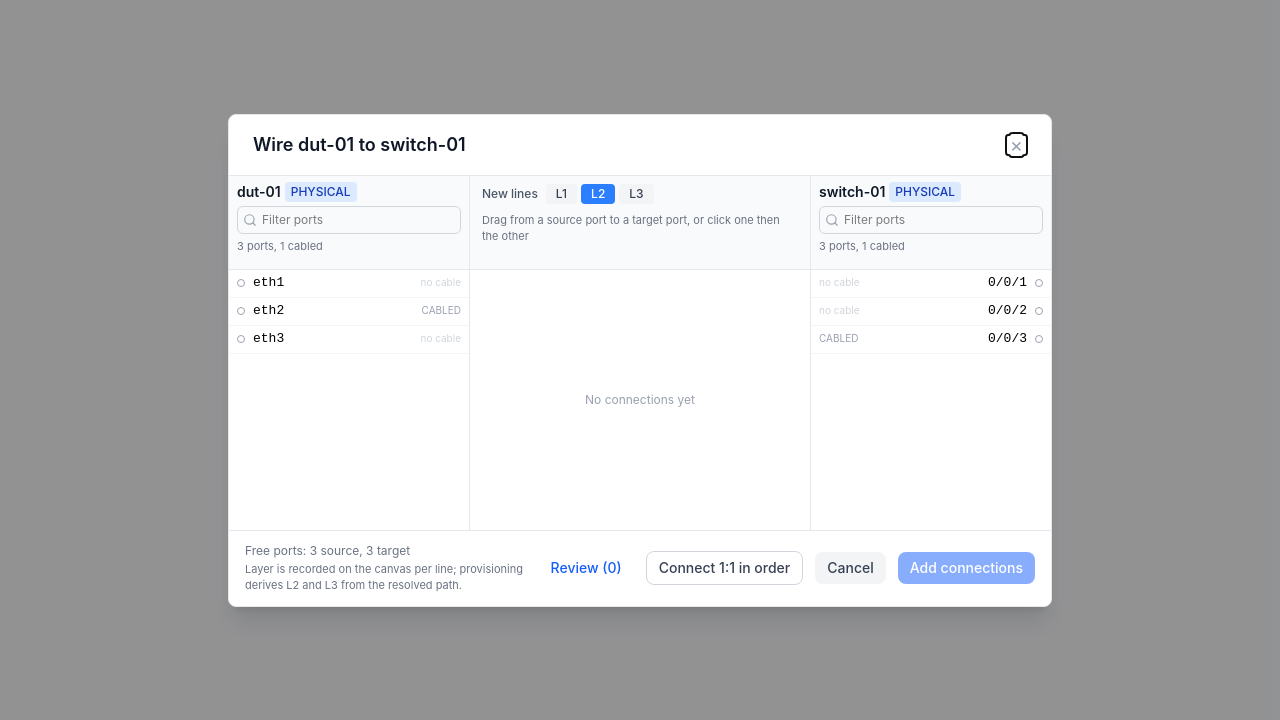
WiringDialog › drag path (mousedown, mousemove past the threshold, mouseup on a free opposite port) completes a connection
This screenshot has width=1280, height=720.
Press the mouse on the button "eth3 no cable" at [349, 340], box [229,326,469,354]
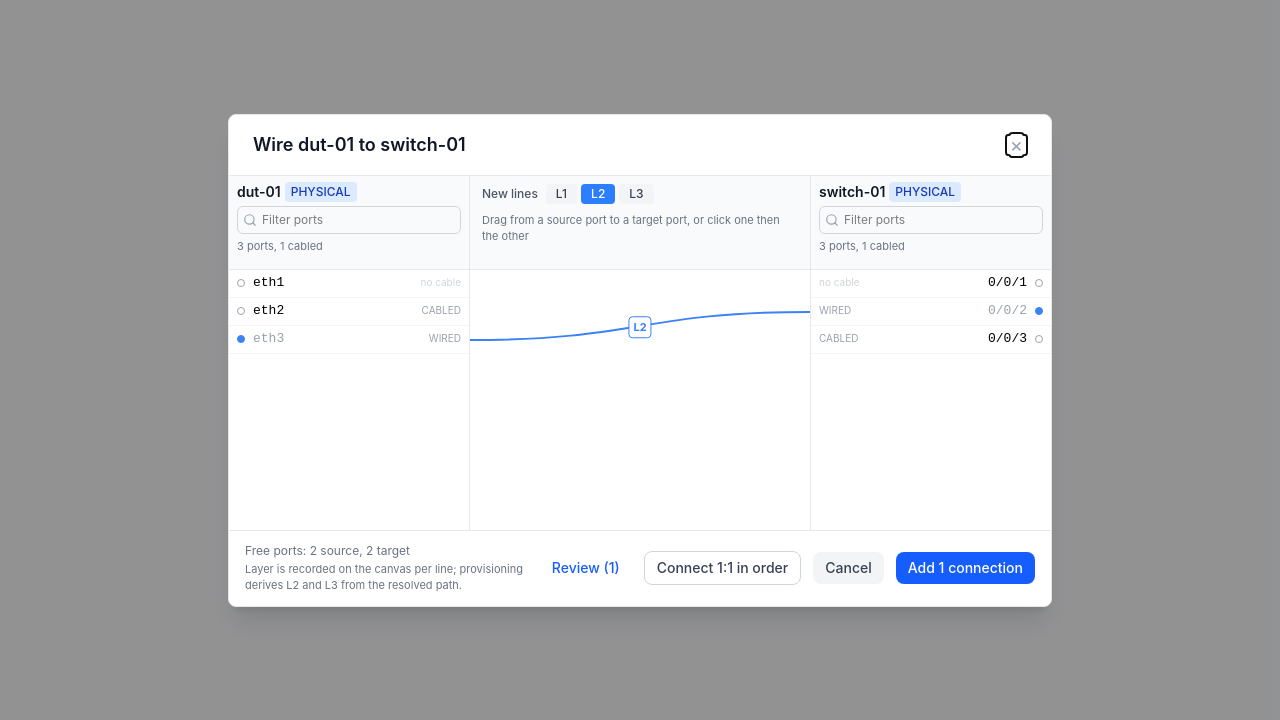
Check: the button "Add 1 connection" is enabled, box [896,552,1035,584]
